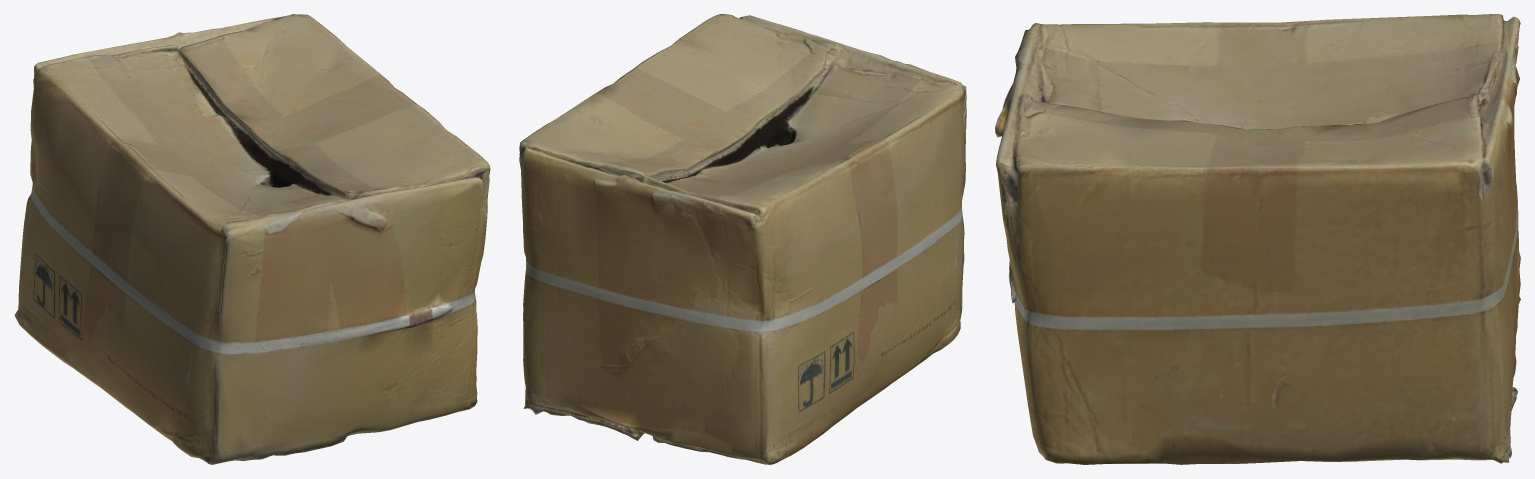
File: cardboard_box_01.glb
The picture shows the model from 3 angles, left to right: view 1: azimuth 30°, elevation 25°; view 2: azimuth 150°, elevation 25°; view 3: azimuth 270°, elevation 25°; orthographic projection. The views are drawn at different scales.
Visible parts, largest first — view 1: cardboard_box_01; view 2: cardboard_box_01; view 3: cardboard_box_01.
Part boxes in pixels (box(x1,y1,x2,y2)): cardboard_box_01: box(14, 14, 490, 464); cardboard_box_01: box(519, 14, 966, 464); cardboard_box_01: box(995, 14, 1520, 464).
Size of the model in its own units: 0.3869 by 0.3418 by 0.5159.
Materials: 1 (1 with a texture image).
